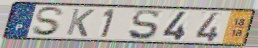1: (100, 9, 116, 39)
4: (161, 10, 189, 42), (195, 11, 221, 43)
K: (64, 7, 97, 38)
S: (30, 6, 66, 38), (127, 9, 161, 41)
